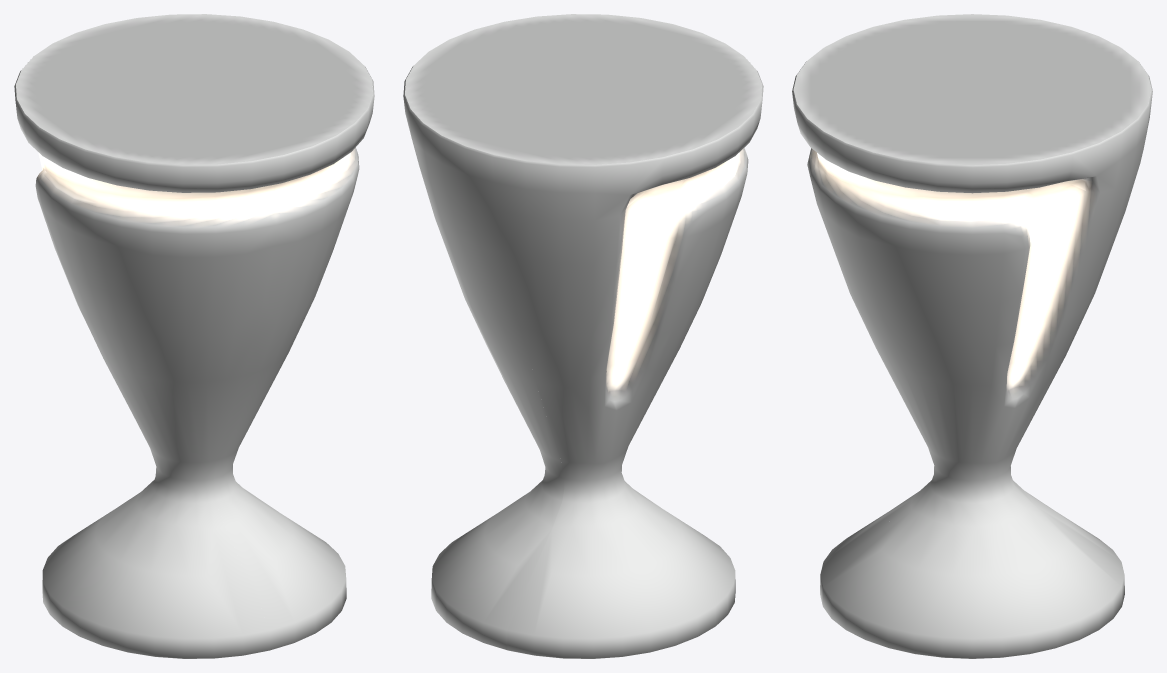
Rendered from bar_table_4_a.glb.
3 renders of one model, left to right at view 1: azimuth 30°, elevation 25°; view 2: azimuth 150°, elevation 25°; view 3: azimuth 270°, elevation 25°, orthographic.
Visible parts, largest first — view 1: bar_table_4; view 2: bar_table_4; view 3: bar_table_4.
Part boxes in pixels (x1,y1,x2,y2): bar_table_4: [14, 14, 374, 658]; bar_table_4: [403, 14, 763, 658]; bar_table_4: [792, 14, 1152, 658].
Bounding box in the file's own units: 0.7105 × 1.1 × 0.7105.
1 material, 1 textured.
